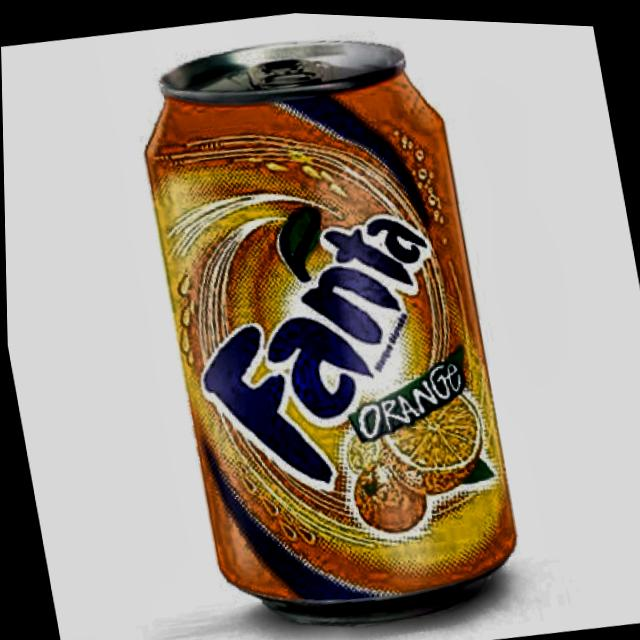Cans: (91, 3, 535, 640)
